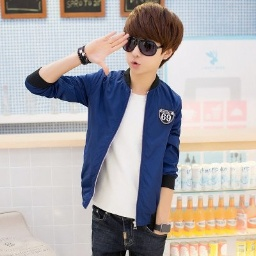face: (125, 3, 184, 73)
